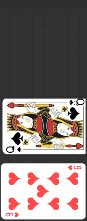9H: (4, 211, 20, 219)
